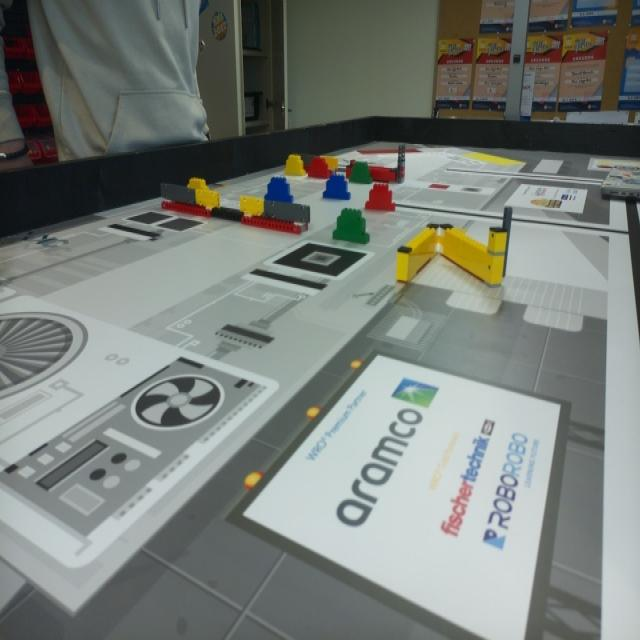blau: (321, 176, 351, 200), (264, 179, 292, 199)
gruen: (334, 209, 368, 246), (352, 164, 369, 184)
rot: (364, 185, 395, 212), (308, 160, 328, 178)
yellow: (287, 158, 303, 176), (187, 178, 207, 190)
